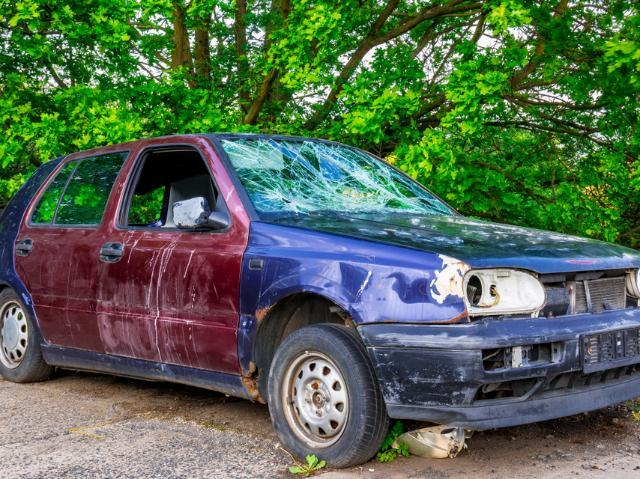Bonnet: (317, 212, 619, 269)
Bumper: (359, 325, 598, 421)
Door: (99, 143, 231, 371)
Fender: (244, 233, 449, 322)
Light: (461, 268, 552, 325)
Windshield: (225, 135, 438, 217)
